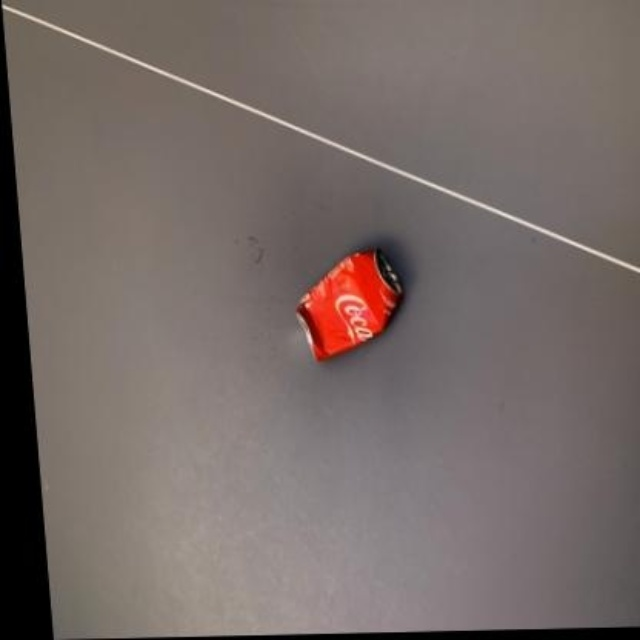trash: (297, 248, 402, 360)
